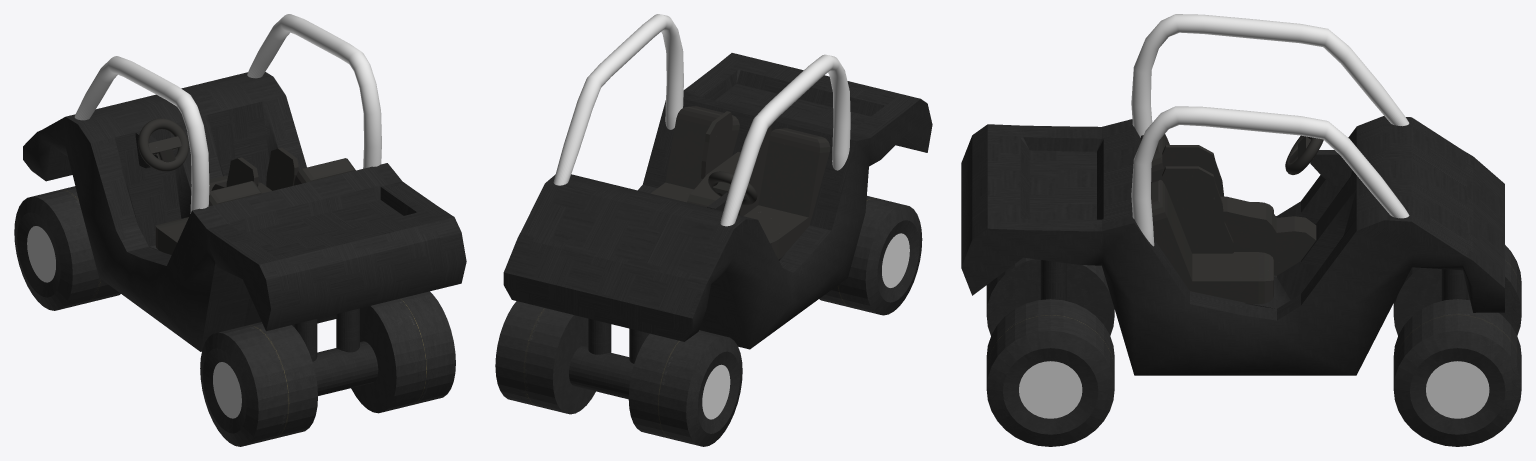
The model's file is atv_textured.fbx.
3 views of the same model, side by side, from view 1: azimuth 30°, elevation 25°; view 2: azimuth 150°, elevation 25°; view 3: azimuth 270°, elevation 25° (orthographic). The views are drawn at different scales.
Visible parts, largest first — view 1: atvBody, wheels, rollcage, axles, steering_wheel, passengerDividers, seatBacking, seats; view 2: atvBody, wheels, rollcage, seatBacking, axles, seats, passengerDividers, centerCompartment, steering_wheel; view 3: atvBody, wheels, rollcage, passengerDividers, centerCompartment, seats, seatBacking, steeringColumn, steering_wheel.
Part boxes in pixels (box(x1,y1,x2,y2)): atvBody: box(23, 72, 466, 351); wheels: box(14, 186, 455, 446); rollcage: box(74, 14, 381, 213); axles: box(312, 341, 378, 395); steering_wheel: box(138, 118, 188, 171); passengerDividers: box(226, 147, 298, 190); seatBacking: box(208, 158, 355, 206); seats: box(155, 217, 188, 254); atvBody: box(503, 53, 932, 349); wheels: box(495, 196, 922, 446); rollcage: box(553, 14, 850, 226); seatBacking: box(665, 106, 830, 217); axles: box(569, 346, 633, 399); seats: box(650, 182, 811, 259); passengerDividers: box(700, 111, 771, 215); centerCompartment: box(687, 152, 740, 207); steering_wheel: box(708, 171, 757, 205); atvBody: box(961, 116, 1504, 375); wheels: box(986, 245, 1521, 446); rollcage: box(1131, 14, 1409, 246); passengerDividers: box(1162, 145, 1233, 253); centerCompartment: box(1220, 196, 1316, 275); seats: box(1183, 202, 1273, 304); seatBacking: box(1141, 134, 1192, 286); steeringColumn: box(1310, 150, 1352, 186); steering_wheel: box(1285, 135, 1323, 174).
Bounding box in the file's own units: 220 × 297 × 453.
